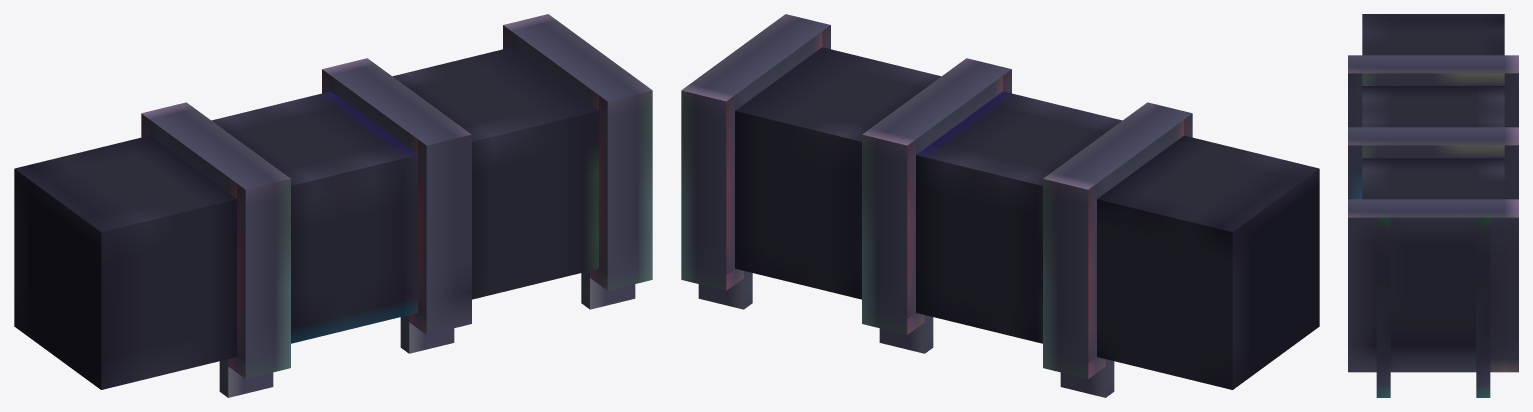
File: Vent_H_00.fbx
3 views of the same model, side by side, from view 1: azimuth 30°, elevation 25°; view 2: azimuth 150°, elevation 25°; view 3: azimuth 270°, elevation 25° (orthographic). The views are drawn at different scales.
Parts seen in each view (by area): view 1: Vent_H_00; view 2: Vent_H_00; view 3: Vent_H_00.
Part boxes in pixels (left/top/right/bottom): Vent_H_00: left=14, top=14, right=652, bottom=397; Vent_H_00: left=681, top=14, right=1319, bottom=397; Vent_H_00: left=1348, top=14, right=1518, bottom=397.
Bounding box in the file's own units: 180 × 70 × 60.
